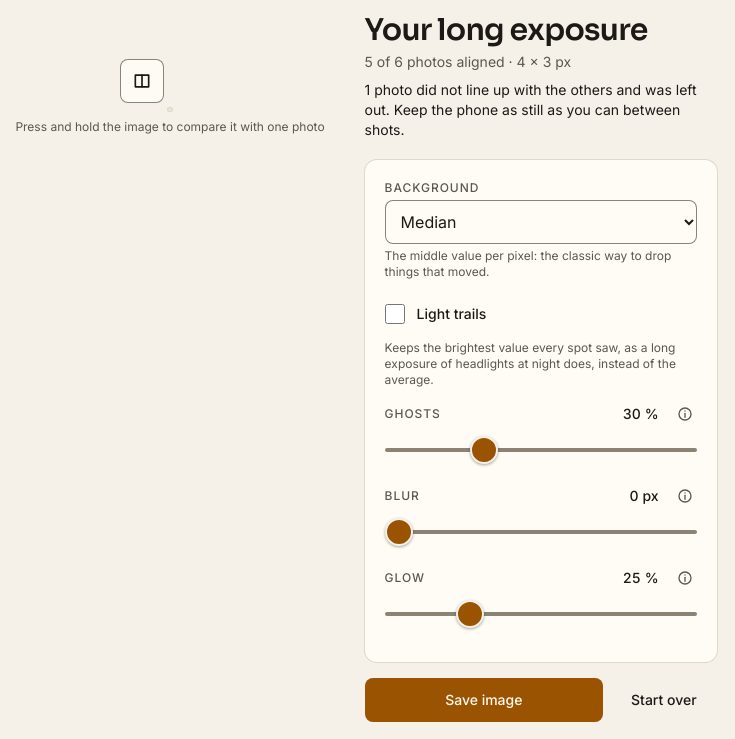
Test: Result: compare › toggles to the single photo and back, disabling the sliders meanwhile
Click the button with test id "compare-toggle" at x=142, y=81, box [120, 59, 164, 103]
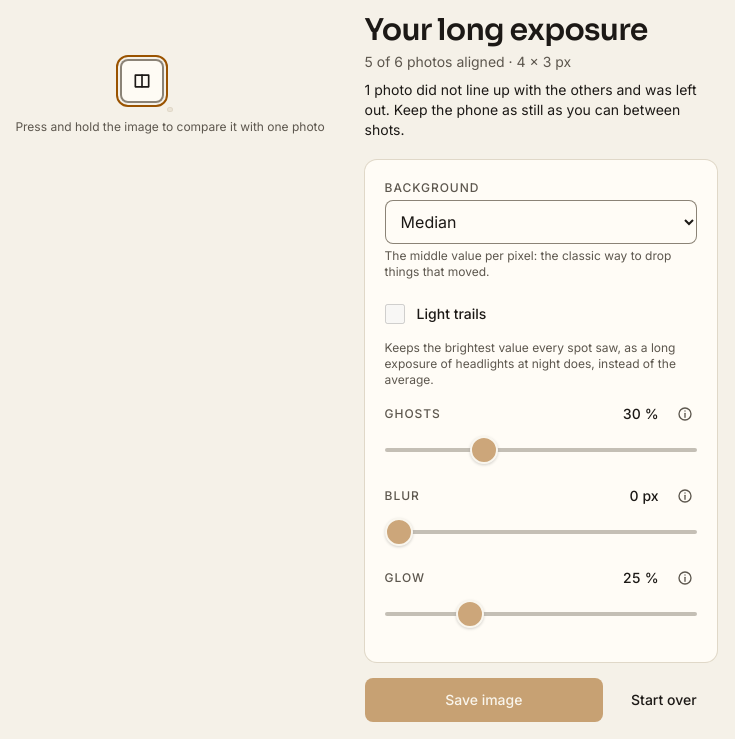
expect the slider with test id "ghost-slider" is disabled: met, box [385, 428, 697, 472]
expect the slider with test id "blur-slider" is disabled: met, box [385, 510, 697, 554]
expect the slider with test id "glow-slider" is disabled: met, box [385, 592, 697, 636]
Click the button with test id "compare-toggle" at x=142, y=81, box [120, 59, 164, 103]
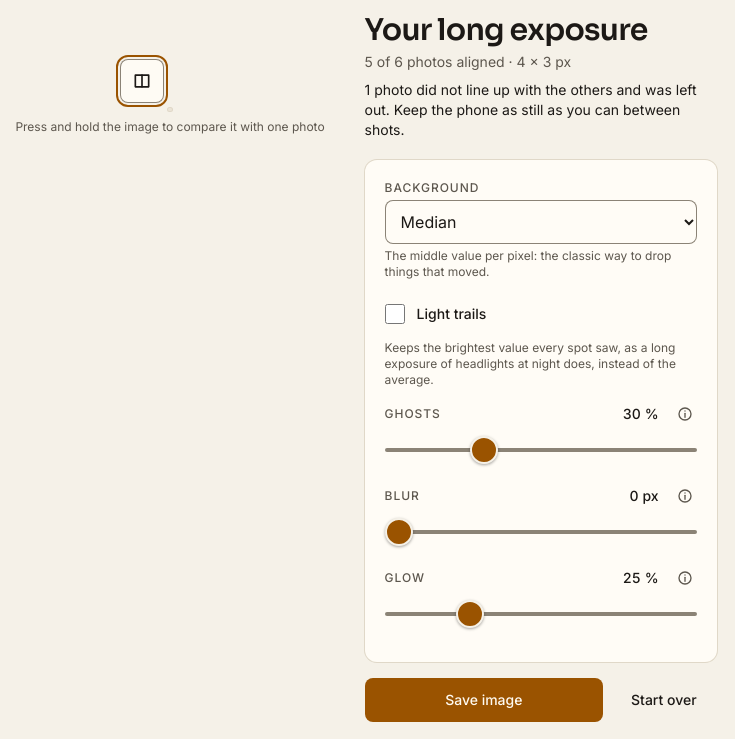
expect the slider with test id "ghost-slider" is enabled: met, box [385, 428, 697, 472]
expect the button with test id "download" is enabled: met, box [365, 678, 603, 722]
